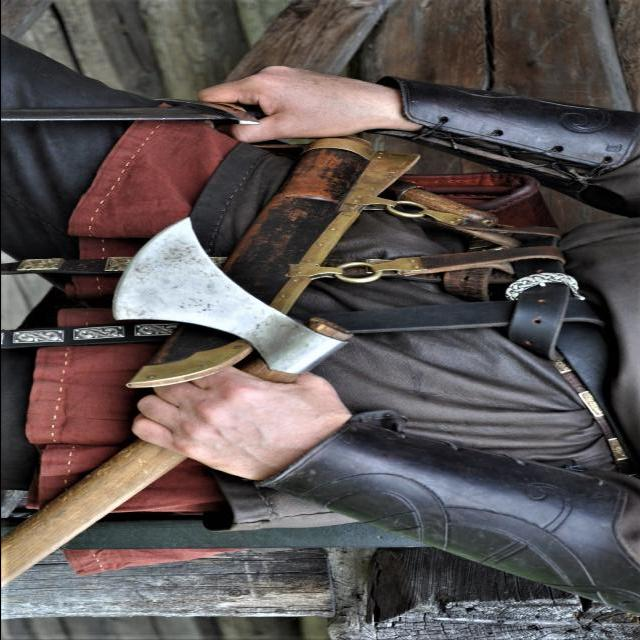axe: (1, 217, 355, 587)
